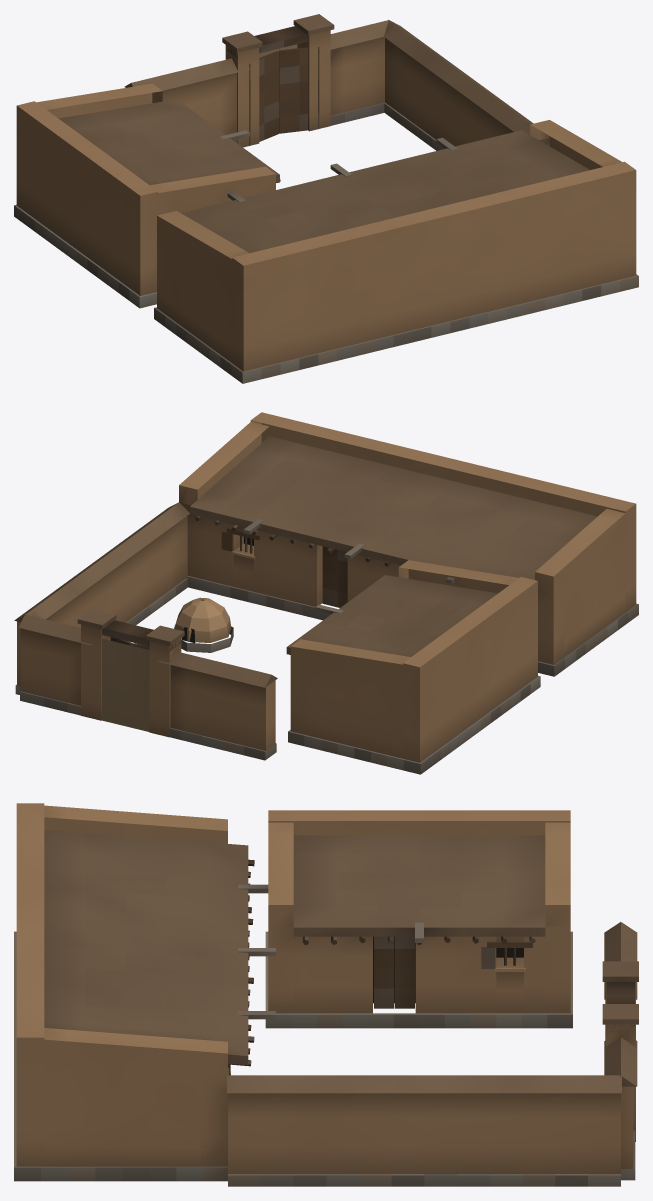
Rendered from casa_patio_a.glb.
3 views of the same model, one above another, from view 1: azimuth 30°, elevation 25°; view 2: azimuth 150°, elevation 25°; view 3: azimuth 270°, elevation 25° (orthographic). The views are drawn at different scales.
Visible parts, largest first — view 1: casa_patio_a; view 2: casa_patio_a; view 3: casa_patio_a.
Boxes of the visible parts, <box> form: casa_patio_a: <box>14,14,638,383</box>; casa_patio_a: <box>14,412,638,774</box>; casa_patio_a: <box>14,803,638,1186</box>.
Bounding box in the file's own units: 11.38 × 3.13 × 12.41.
